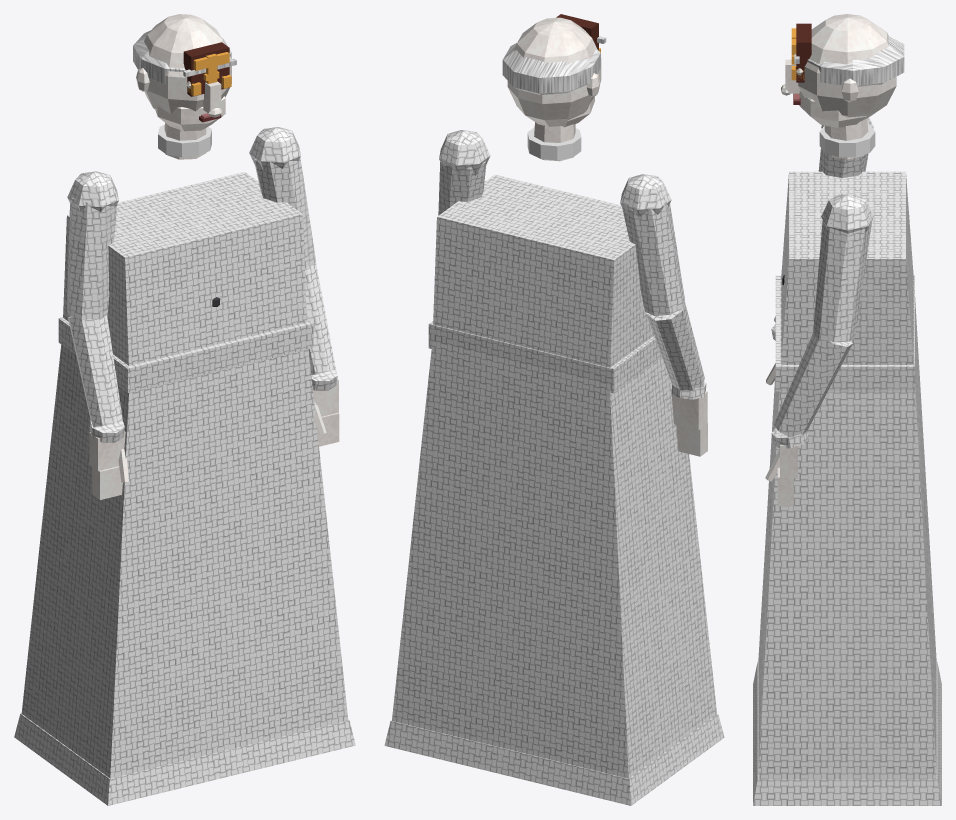
File: parroco.obj
The picture shows the model from 3 angles, left to right: view 1: azimuth 30°, elevation 25°; view 2: azimuth 150°, elevation 25°; view 3: azimuth 270°, elevation 25°; orthographic projection.
Parts seen in each view (by area): view 1: tessuto_000, pelle_004, tessuto_001, tessuto_002, liscio_005, tessuto_006, capelli_013, marchio_014, marchio_015; view 2: tessuto_000, tessuto_001, pelle_004, tessuto_002, capelli_013, liscio_005; view 3: tessuto_000, pelle_004, tessuto_001, tessuto_002, capelli_013, liscio_005, marchio_014, tessuto_006, pelle_007.
Part boxes in pixels (x1=…): tessuto_000: x1=21, y1=127, x2=348, y2=778; pelle_004: x1=89, y1=14, x2=339, y2=499; tessuto_001: x1=14, y1=713, x2=355, y2=805; tessuto_002: x1=58, y1=317, x2=313, y2=392; liscio_005: x1=158, y1=124, x2=211, y2=157; tessuto_006: x1=89, y1=369, x2=337, y2=442; capelli_013: x1=133, y1=30, x2=231, y2=84; marchio_014: x1=183, y1=42, x2=229, y2=96; marchio_015: x1=187, y1=52, x2=231, y2=95; tessuto_000: x1=392, y1=130, x2=716, y2=778; tessuto_001: x1=384, y1=714, x2=724, y2=805; pelle_004: x1=507, y1=17, x2=707, y2=456; tessuto_002: x1=428, y1=321, x2=662, y2=393; capelli_013: x1=502, y1=43, x2=600, y2=94; liscio_005: x1=527, y1=127, x2=581, y2=160; tessuto_000: x1=758, y1=117, x2=936, y2=779; pelle_004: x1=765, y1=14, x2=896, y2=506; tessuto_001: x1=753, y1=662, x2=941, y2=805; tessuto_002: x1=775, y1=275, x2=914, y2=391; capelli_013: x1=807, y1=36, x2=904, y2=86; liscio_005: x1=819, y1=124, x2=875, y2=157; marchio_014: x1=796, y1=23, x2=811, y2=82; tessuto_006: x1=771, y1=324, x2=808, y2=448; pelle_007: x1=781, y1=59, x2=799, y2=95.
Bounding box in the file's own units: 0.651 × 1.82 × 0.4272.
16 materials, 8 textured.
